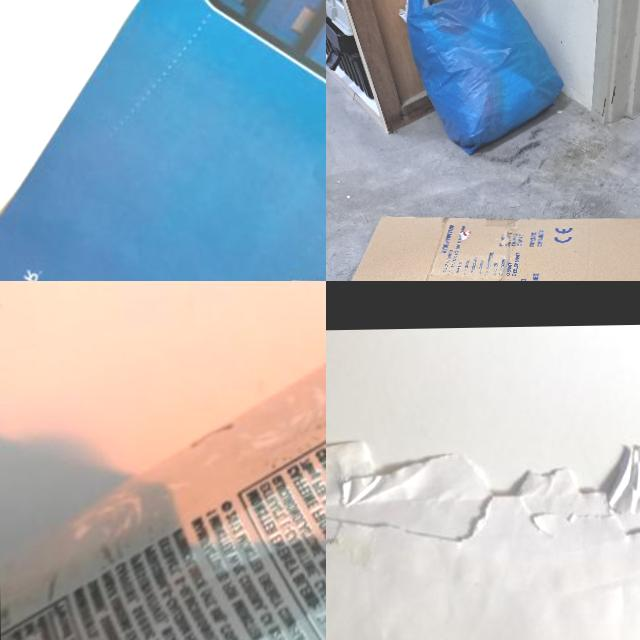lata: (0, 336, 326, 640)
papel: (0, 0, 326, 281), (326, 433, 640, 640)
papelão: (326, 211, 640, 281)
sacola plástica: (405, 0, 558, 154)
